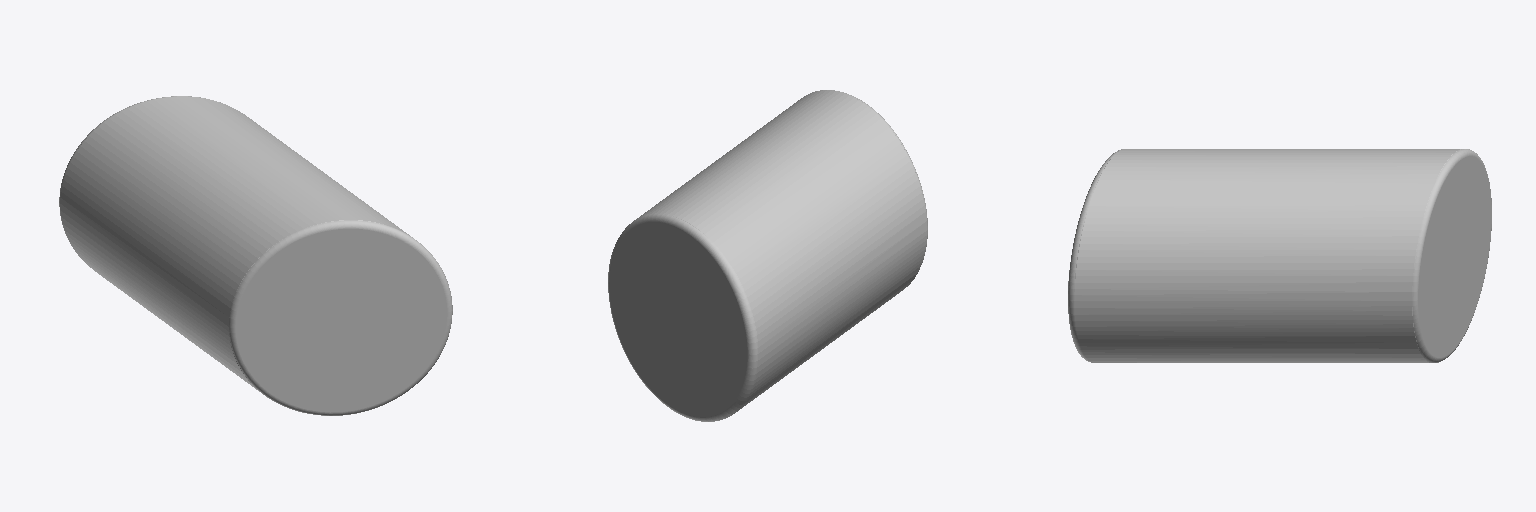
The model's file is cylinder_parallogram.obj.
3 views of the same model, side by side, from view 1: azimuth 30°, elevation 25°; view 2: azimuth 150°, elevation 25°; view 3: azimuth 270°, elevation 25° (orthographic).
Size of the model in its own units: 25.4 by 25.4 by 50.12.